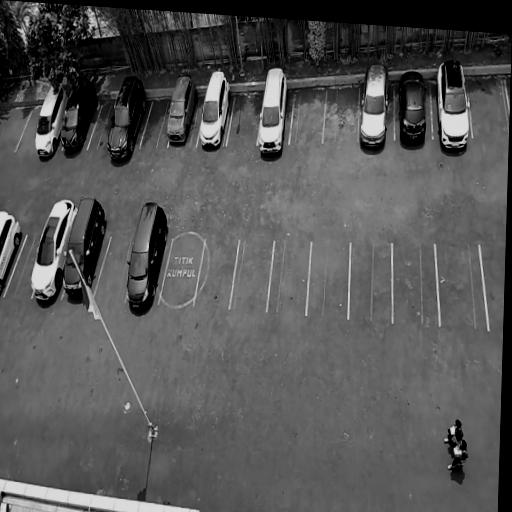Car: (119, 195, 175, 315), (22, 194, 79, 308), (57, 187, 110, 306), (97, 67, 153, 166), (252, 61, 292, 164), (193, 67, 236, 157), (435, 58, 474, 157), (58, 74, 102, 158), (356, 59, 391, 156), (31, 76, 70, 163), (163, 72, 202, 151), (396, 67, 432, 149), (0, 204, 25, 290)
Space Available: (436, 244, 487, 332), (393, 244, 439, 325), (349, 242, 392, 320), (158, 236, 205, 306), (268, 241, 311, 314), (308, 242, 349, 317), (195, 239, 238, 310), (231, 238, 272, 310), (91, 237, 134, 305), (467, 74, 509, 138), (4, 236, 40, 298), (323, 84, 359, 143), (289, 88, 326, 145), (481, 244, 505, 331), (226, 93, 261, 147), (140, 96, 172, 146), (87, 99, 115, 150), (14, 104, 42, 152)
